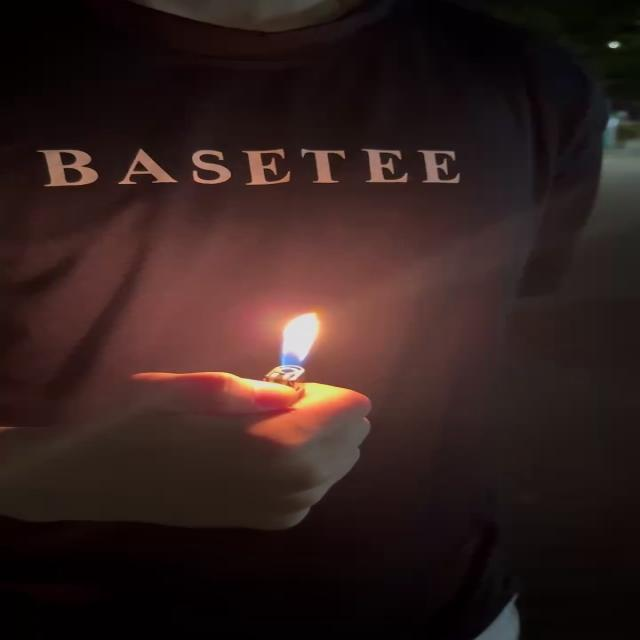Fire: (279, 312, 327, 374)
